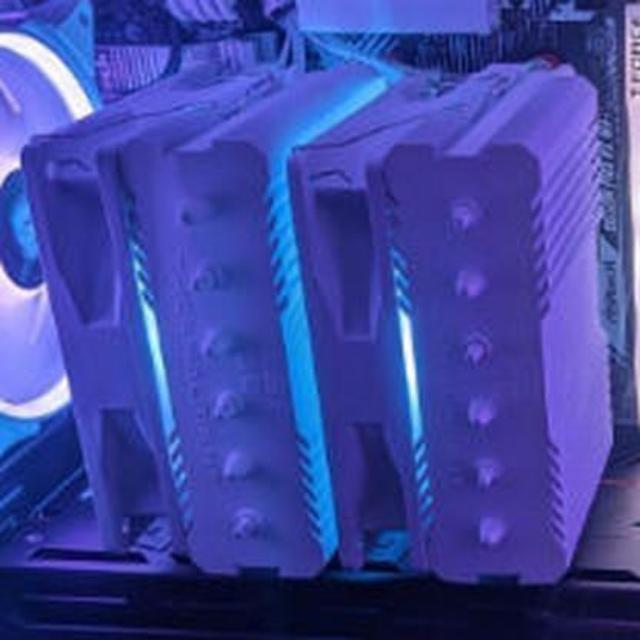CPU_Fan: (31, 59, 614, 566)
